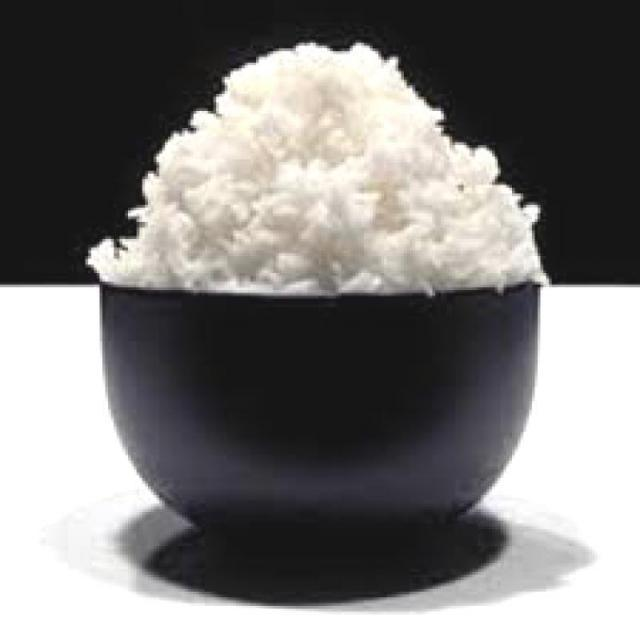rice: (92, 40, 549, 296)
